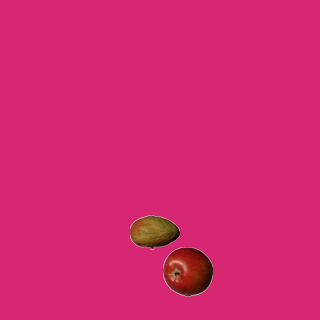Apple Braeburn: (162, 246, 212, 296)
Papaya: (129, 207, 179, 257)
